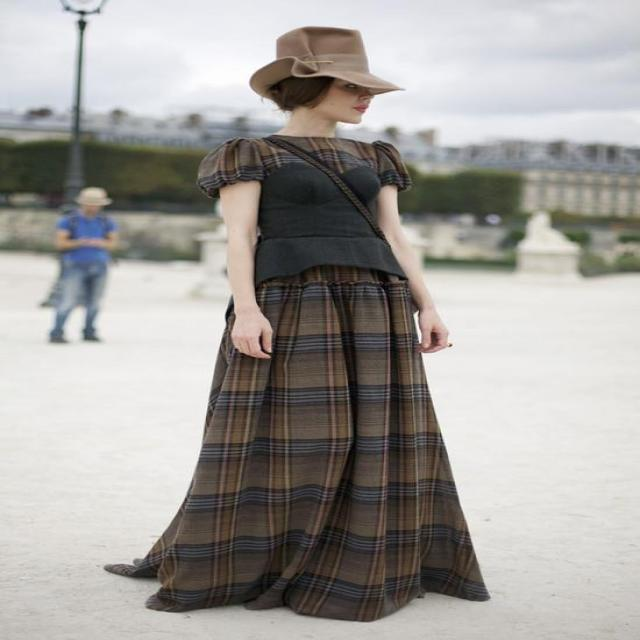dress: (103, 134, 494, 622)
